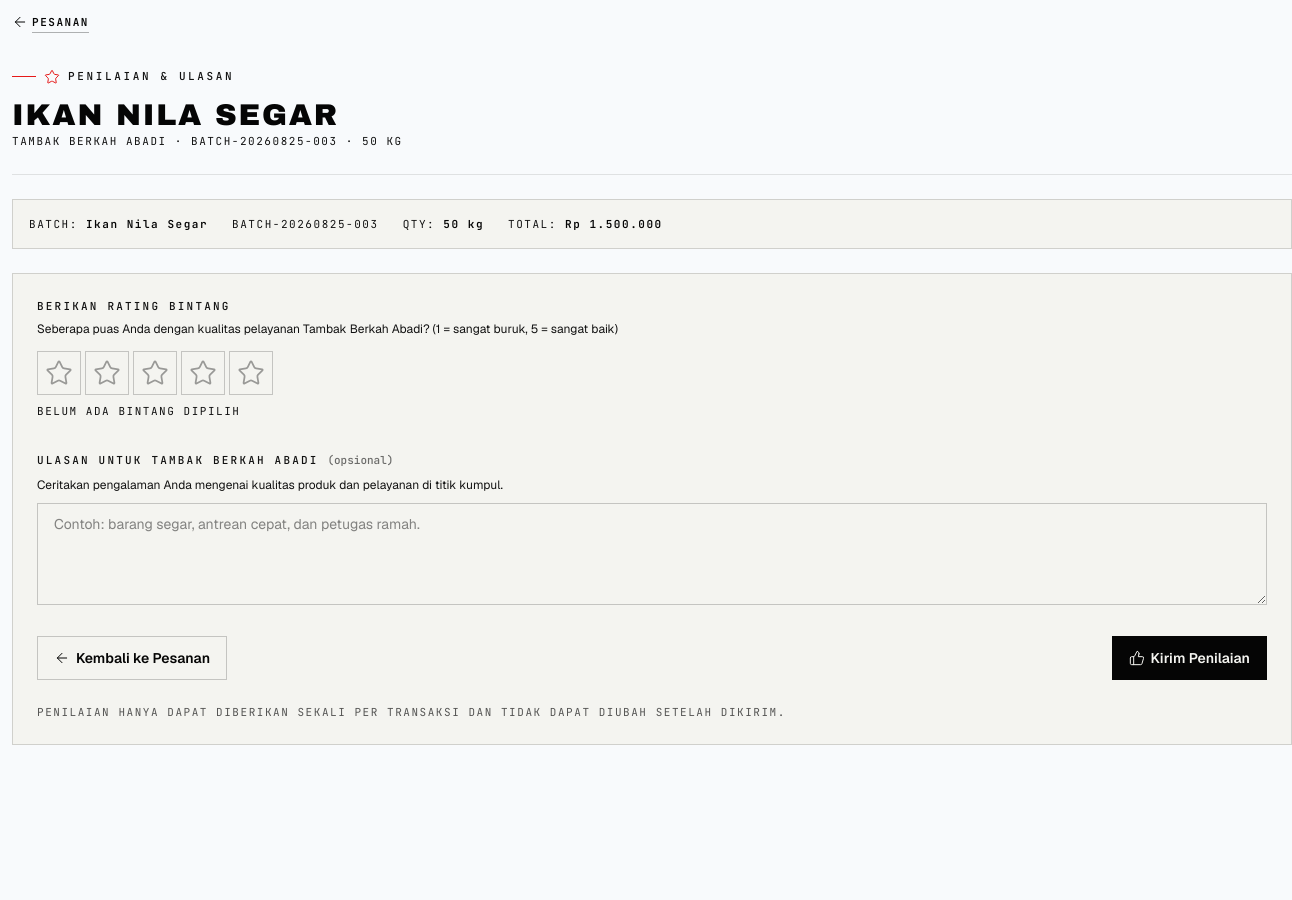
RatingFormClient (PRD 2.2.6) › selects a star, then submits and shows the success panel
The image size is (1292, 900).
Click the button named "5 bintang" at (251, 373), box [229,351,273,395]
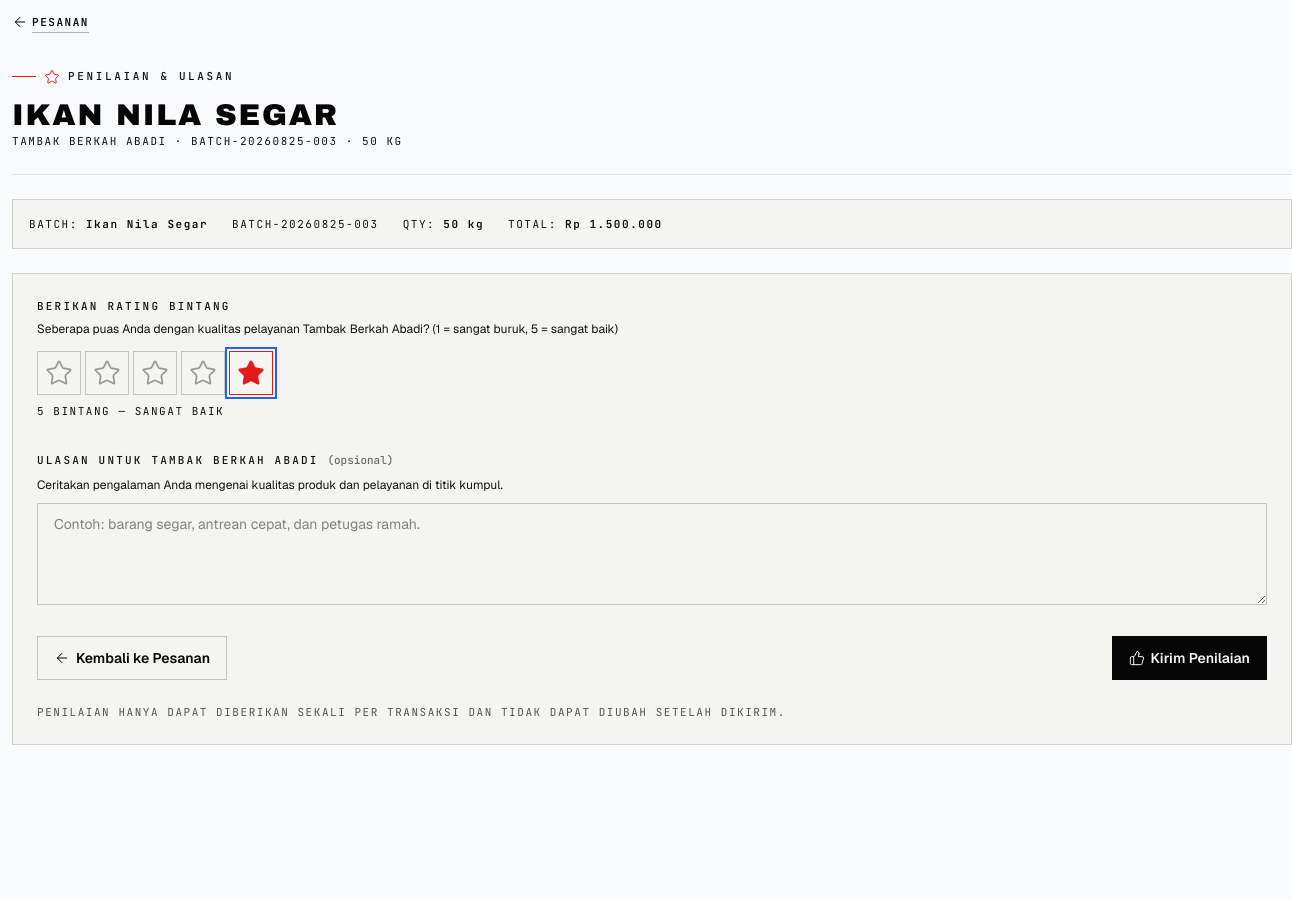
Expected: the button named "5 bintang" is pressed, [229,351,273,395]
Click the button "Kirim Penilaian" at (1189, 658), box [1112,636,1267,680]
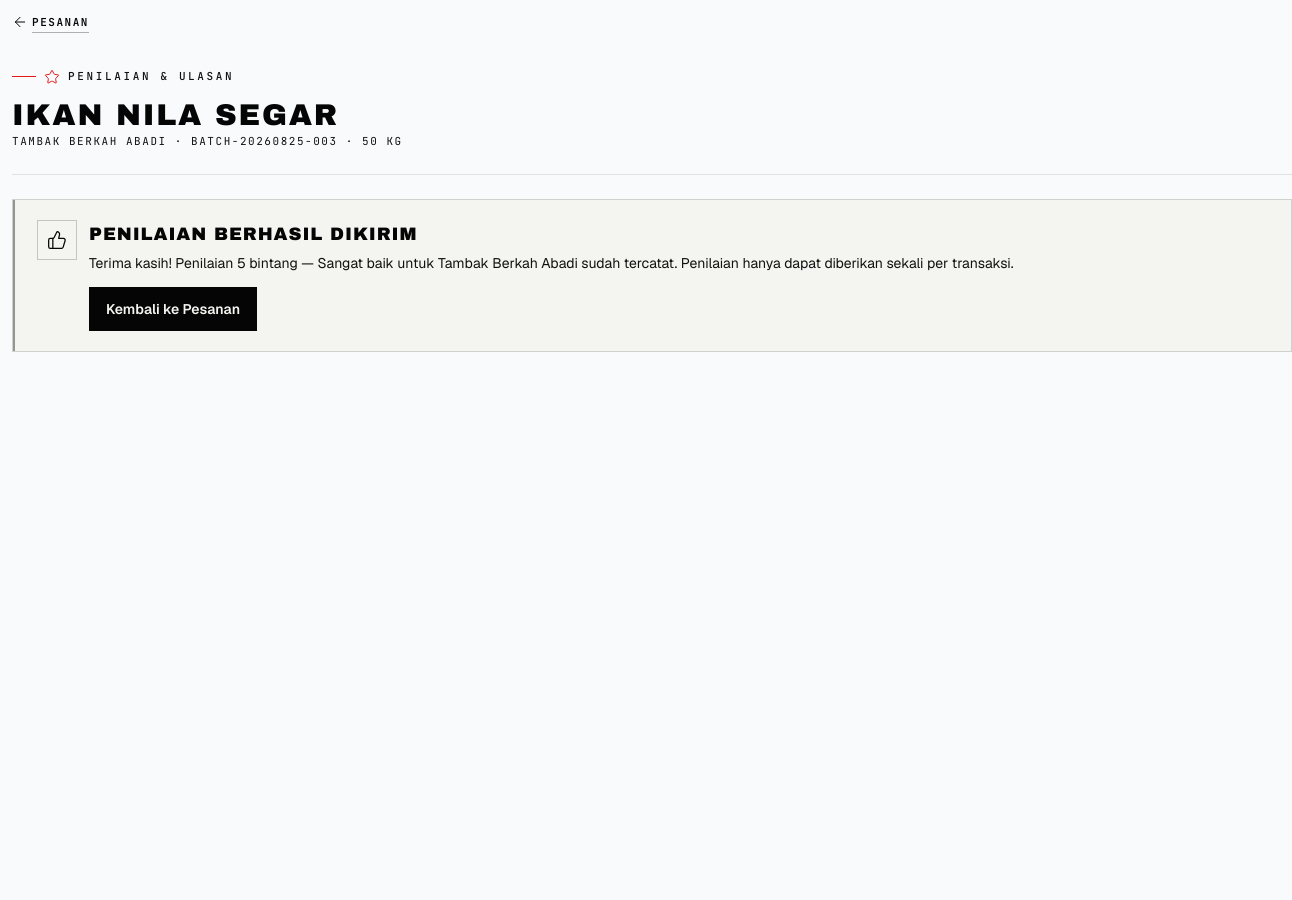
Expected: the heading "Penilaian berhasil dikirim" is shown, [89,224,417,244]
